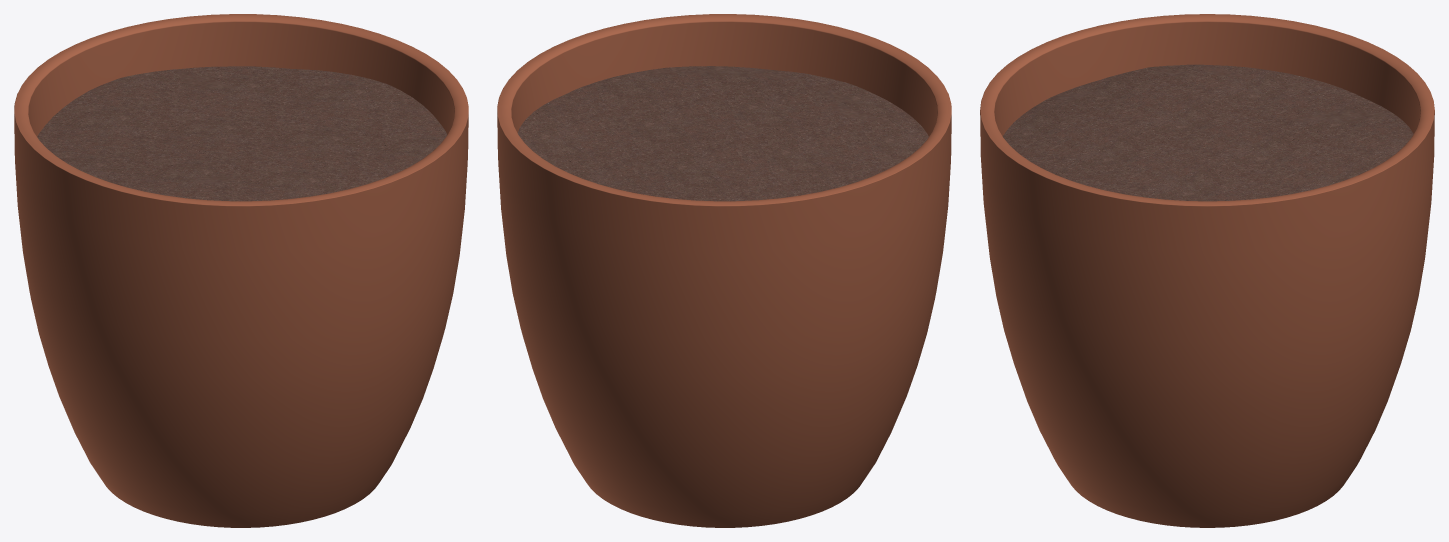
The model's file is egg_plant_pot.glb.
The picture shows the model from 3 angles, left to right: view 1: azimuth 30°, elevation 25°; view 2: azimuth 150°, elevation 25°; view 3: azimuth 270°, elevation 25°; orthographic projection.
Visible parts, largest first — view 1: Egg_Plant_Pot, Egg_Plant_Pot_Soil; view 2: Egg_Plant_Pot, Egg_Plant_Pot_Soil; view 3: Egg_Plant_Pot, Egg_Plant_Pot_Soil.
Boxes of the visible parts, x1,y1,x2,y2 form: Egg_Plant_Pot: [14, 14, 468, 527]; Egg_Plant_Pot_Soil: [37, 66, 447, 201]; Egg_Plant_Pot: [497, 14, 951, 527]; Egg_Plant_Pot_Soil: [517, 66, 928, 201]; Egg_Plant_Pot: [980, 14, 1434, 527]; Egg_Plant_Pot_Soil: [1003, 64, 1413, 201].
Bounding box in the file's own units: 0.3883 × 0.3382 × 0.3883.
2 materials, 2 textured.
